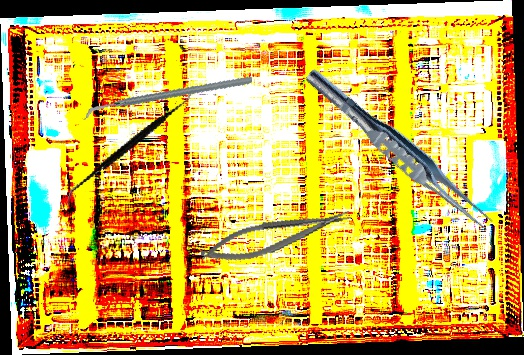Chopper: (82, 41, 253, 155)
Needle Holder: (197, 203, 355, 270)
Spatula Surgical: (65, 60, 197, 232)
Tissue Forceps: (297, 63, 502, 238)
